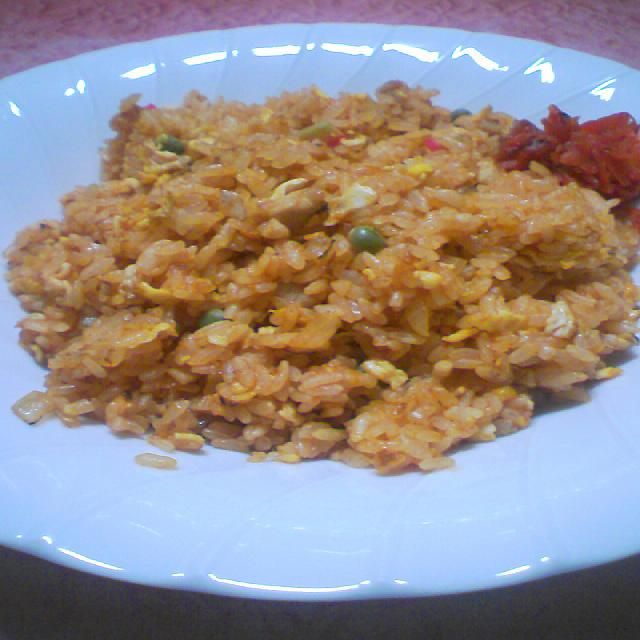Rice: (1, 77, 640, 480)
